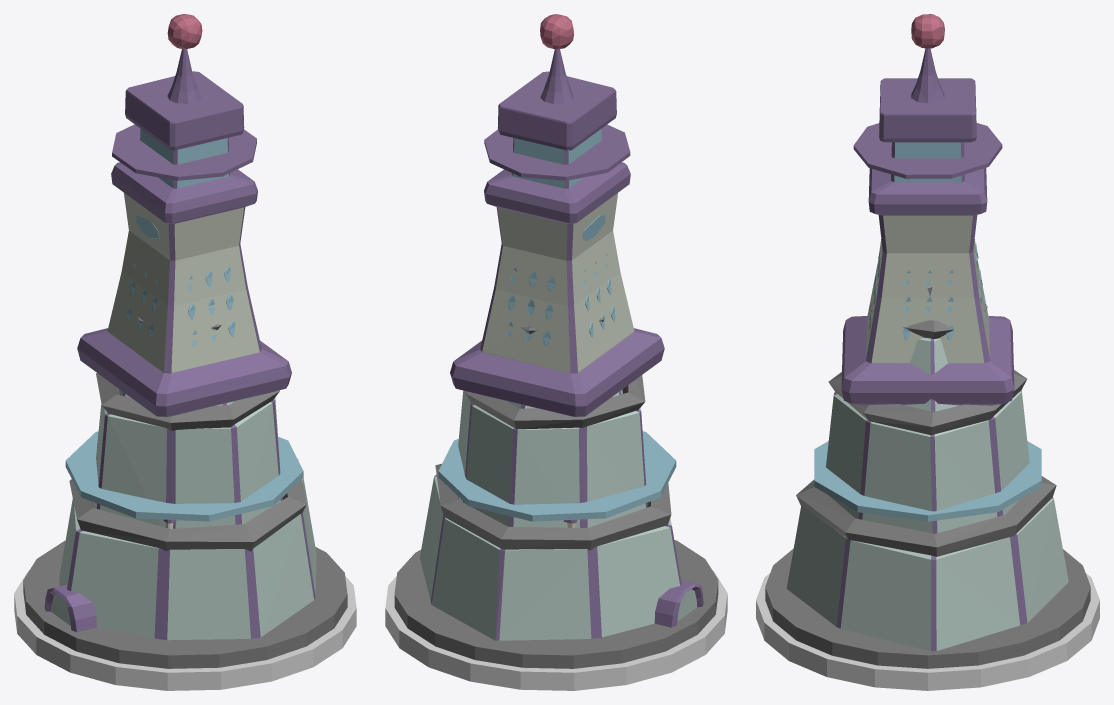
File: space-v1.glb
3 views of the same model, side by side, from view 1: azimuth 30°, elevation 25°; view 2: azimuth 150°, elevation 25°; view 3: azimuth 270°, elevation 25° (orthographic).
Visible parts, largest first — view 1: tower1, tower2; view 2: tower1, tower2; view 3: tower1, tower2.
Part boxes in pixels (x1=…): tower1: x1=14, y1=317, x2=356, y2=690; tower2: x1=65, y1=14, x2=303, y2=521; tower1: x1=385, y1=317, x2=727, y2=690; tower2: x1=438, y1=14, x2=676, y2=521; tower1: x1=756, y1=287, x2=1099, y2=690; tower2: x1=814, y1=14, x2=1041, y2=521.
Bounding box in the file's own units: 21.75 × 42 × 21.75.
